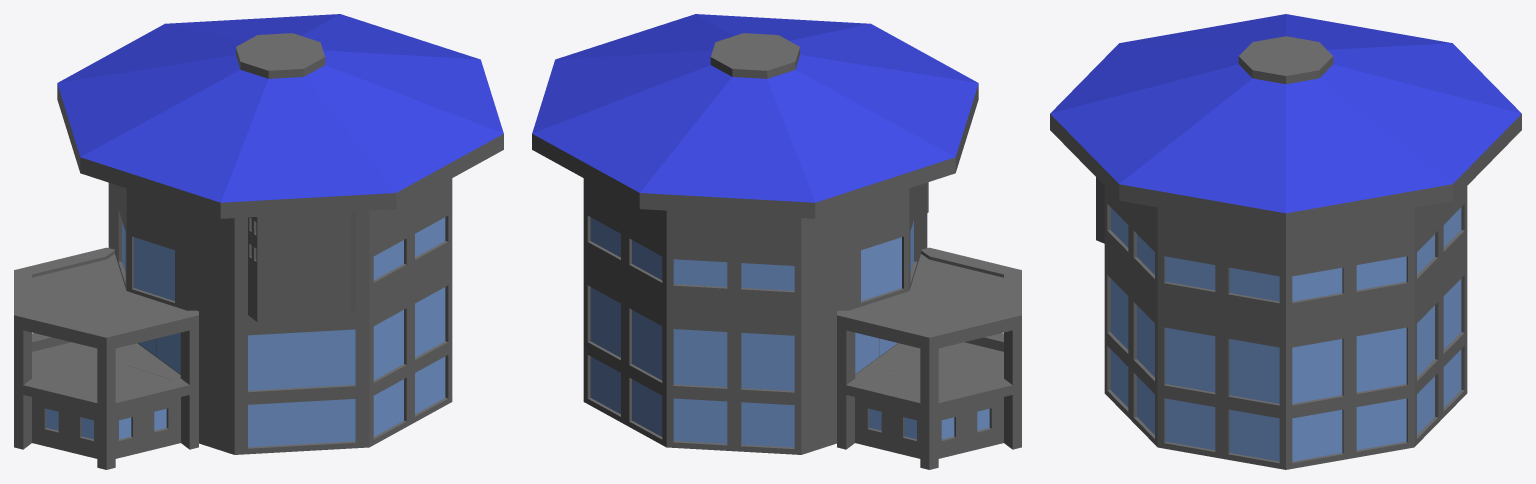
Rendered from ChaeYuckTexture.fbx.
The picture shows the model from 3 angles, left to right: view 1: azimuth 30°, elevation 25°; view 2: azimuth 150°, elevation 25°; view 3: azimuth 270°, elevation 25°; orthographic projection. The views are drawn at different scales.
Visible parts, largest first — view 1: Cylinder, Cylinder.001; view 2: Cylinder, Cylinder.001; view 3: Cylinder.
Part boxes in pixels (box(x1,y1,x2,y2)): Cylinder: box(57, 14, 503, 454); Cylinder.001: box(14, 247, 198, 469); Cylinder: box(532, 14, 978, 454); Cylinder.001: box(837, 247, 1021, 469); Cylinder: box(1050, 14, 1521, 469).
Bounding box in the file's own units: 15150 × 10250 × 13000.
